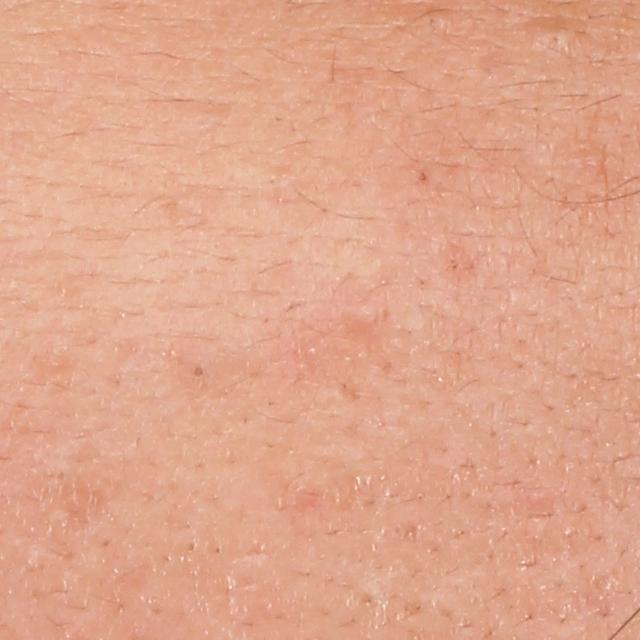comedo: (521, 21, 587, 60), (431, 10, 456, 34), (190, 360, 210, 386)
